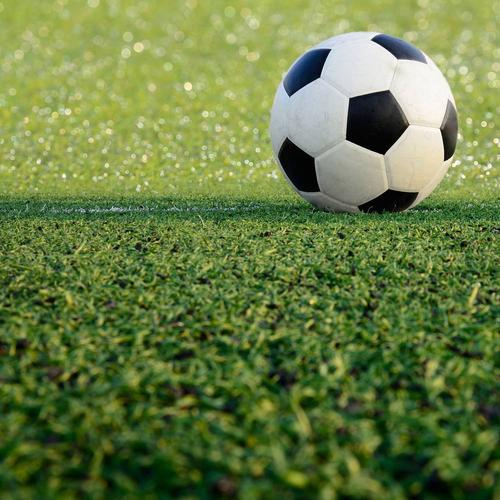football: (273, 23, 459, 215)
